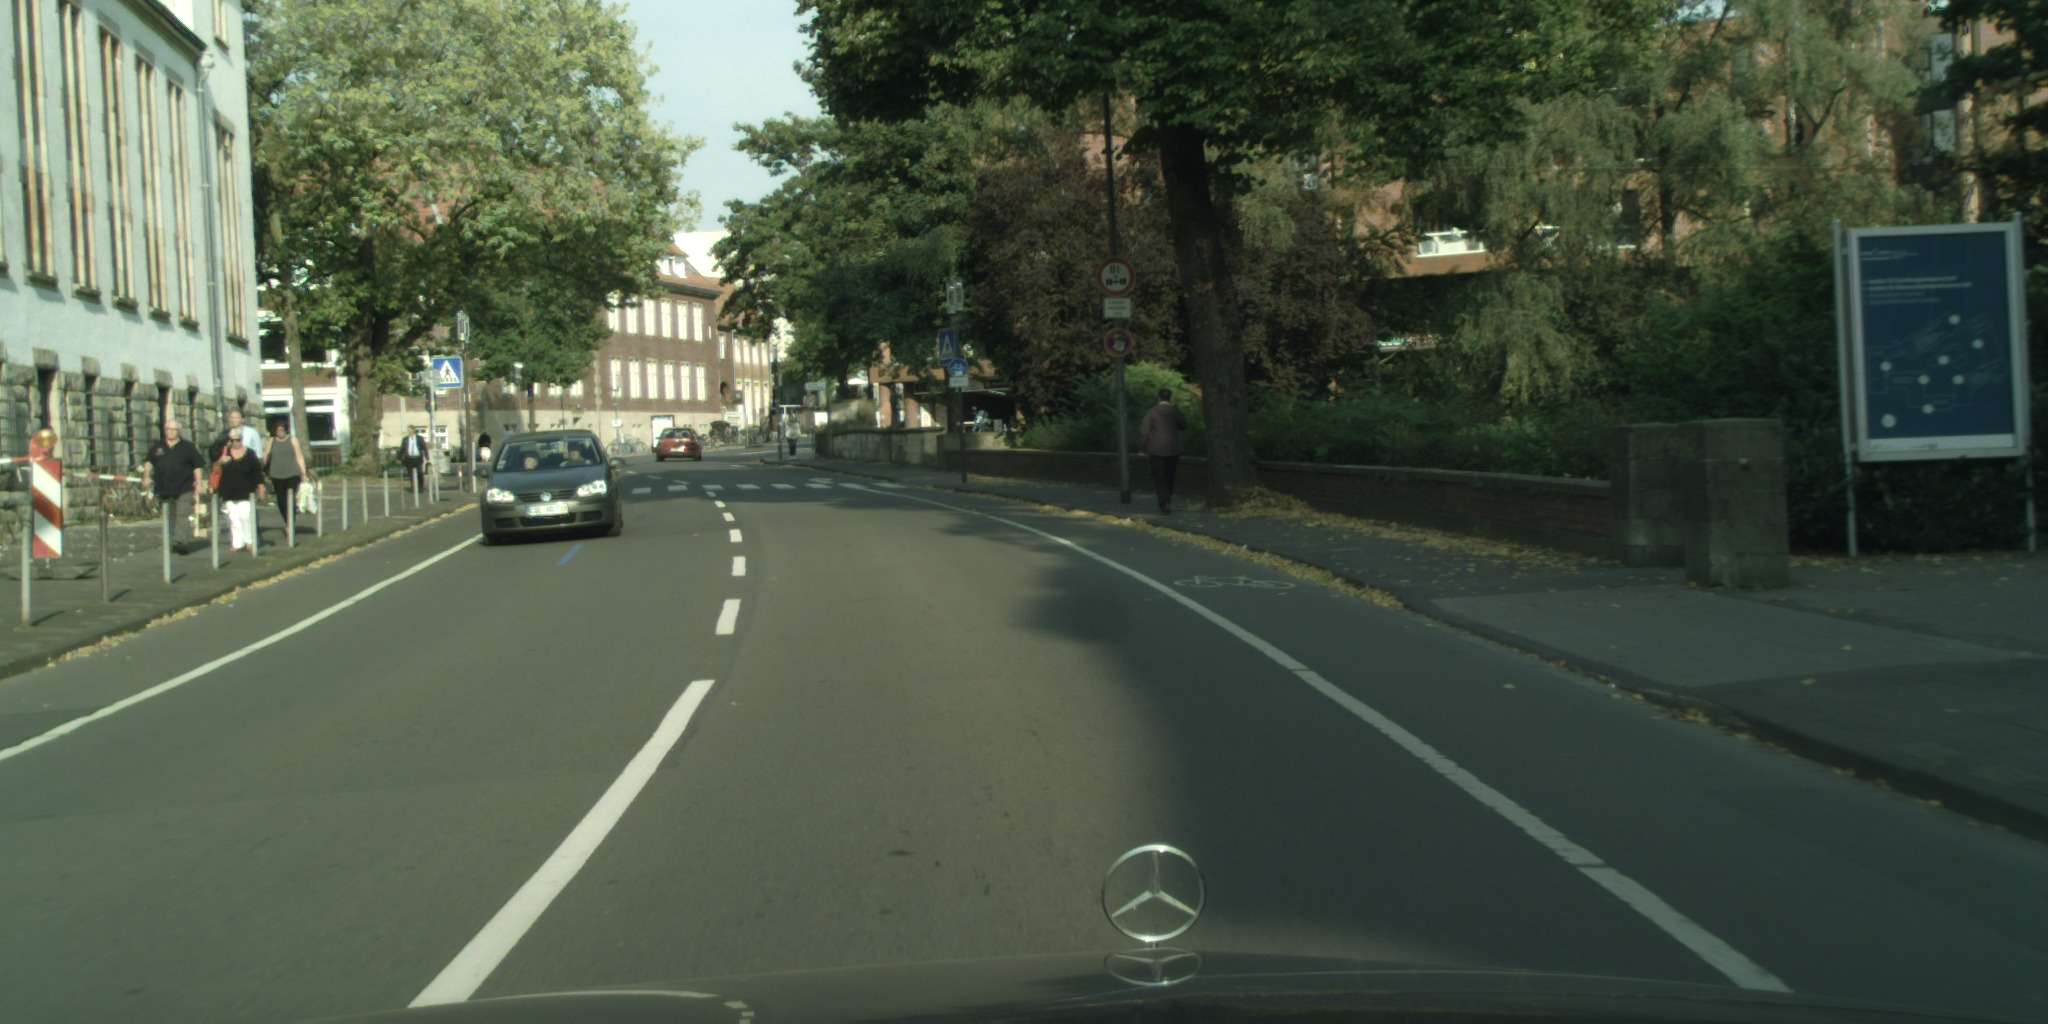car: (471, 430, 624, 546), (655, 429, 702, 463)
motorcycle: (970, 403, 1010, 433)
person: (140, 419, 204, 557), (208, 405, 267, 549), (208, 428, 266, 555), (263, 419, 319, 540), (1136, 390, 1189, 519), (396, 425, 434, 495), (787, 417, 801, 460), (477, 430, 493, 462)
